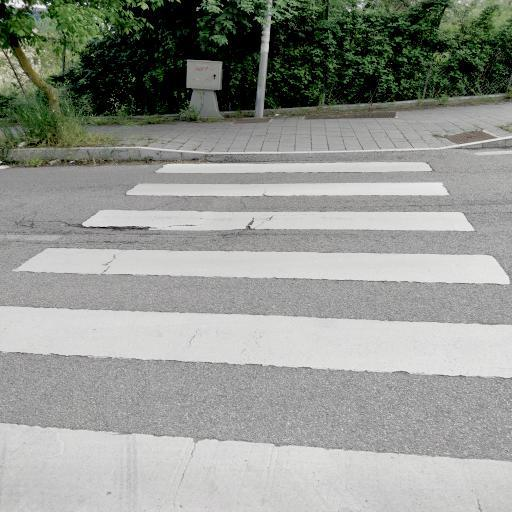crosswalk: (7, 208, 511, 292), (120, 158, 454, 198)
